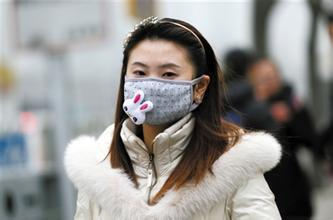OK: (127, 57, 193, 122)
